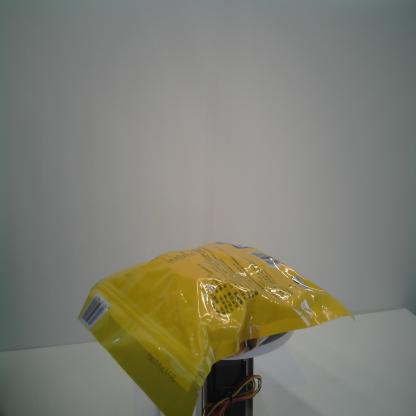Dried Food: (78, 241, 357, 416)
